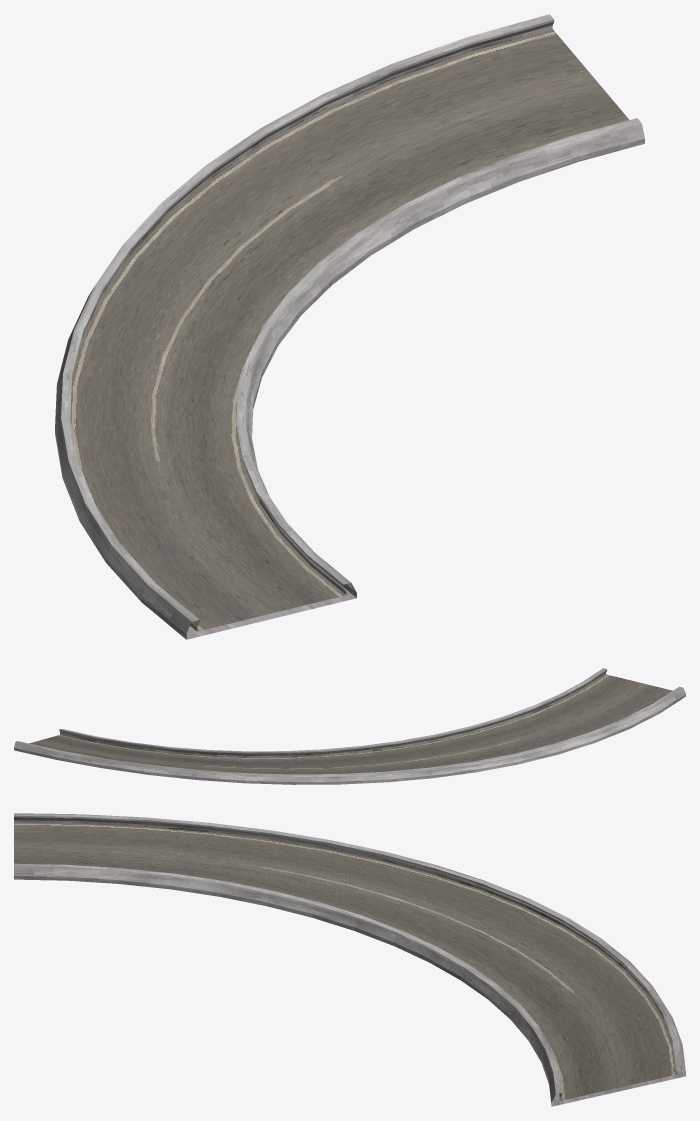
The model's file is turn-right5x5.glb.
3 renders of one model, top to bottom at view 1: azimuth 30°, elevation 25°; view 2: azimuth 150°, elevation 25°; view 3: azimuth 270°, elevation 25°, orthographic. The views are drawn at different scales.
Visible parts, largest first — view 1: road-Turn-Flat-HalfBankedRight-Even-Right-Size5; view 2: road-Turn-Flat-HalfBankedRight-Even-Right-Size5; view 3: road-Turn-Flat-HalfBankedRight-Even-Right-Size5.
Boxes of the visible parts, <box> form: road-Turn-Flat-HalfBankedRight-Even-Right-Size5: <box>55,14,644,639</box>; road-Turn-Flat-HalfBankedRight-Even-Right-Size5: <box>14,668,685,784</box>; road-Turn-Flat-HalfBankedRight-Even-Right-Size5: <box>14,813,685,1106</box>.
Bounding box in the file's own units: 5 × 0.3359 × 5.
Materials: 2 (2 with a texture image).
